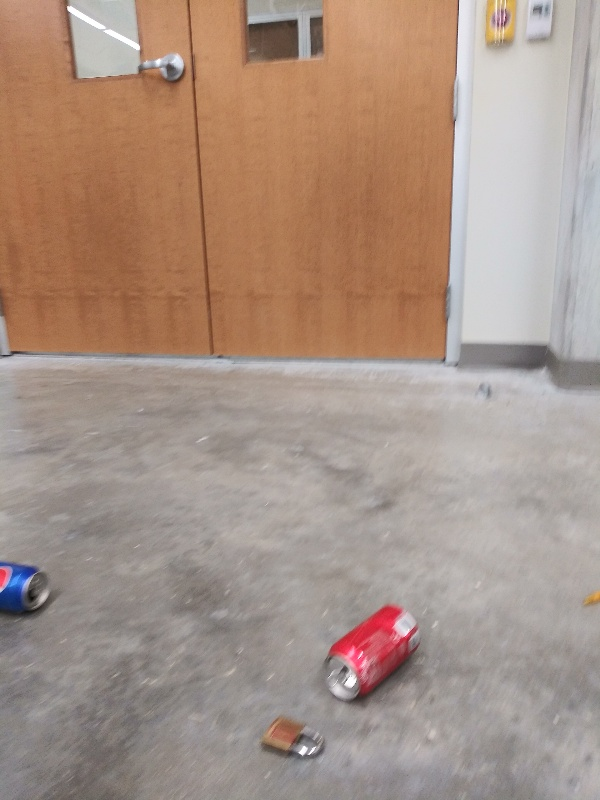can: (318, 596, 427, 706), (1, 554, 58, 621)
